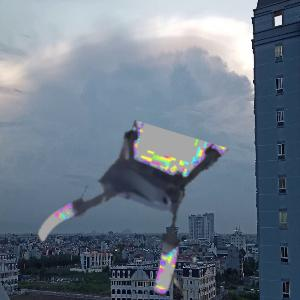drone: (41, 122, 211, 292)
